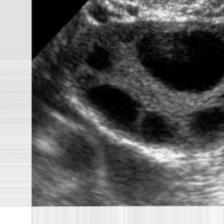pcos: (44, 0, 221, 165)
